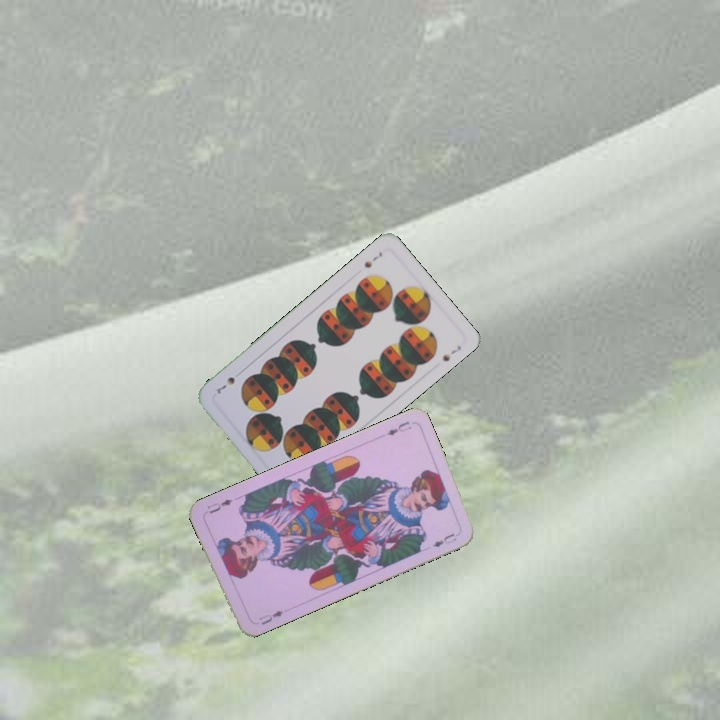EU: (255, 606, 286, 627), (383, 417, 414, 438)
S7: (360, 248, 385, 270)
